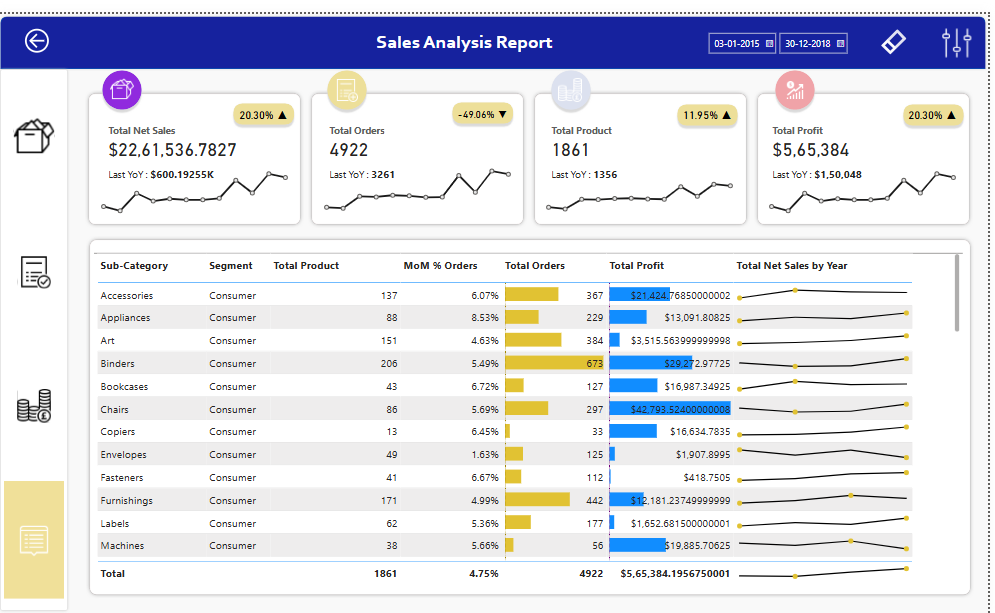

This screenshot's page, from the dashboard's own definition file:
{"tool":"powerbi","page":{"name":"Sales","canvas":[1650,1000],"ordinal":0},"visuals":[{"type":"shape","box":[0,0,1650,95.7],"z":0},{"type":"shape","box":[129.4,128.6,365,230],"z":1000},{"type":"shape","box":[872.3,128.6,365,230],"z":2000},{"type":"shape","box":[1243.7,128.6,365,230],"z":3000},{"type":"shape","box":[500.8,128.6,365,230],"z":4000},{"type":"shape","box":[151.4,88.6,80,80],"z":5000},{"type":"shape","box":[1272.8,88.6,80,80],"z":6000},{"type":"shape","box":[899,88.6,80,80],"z":7000},{"type":"shape","box":[525.2,88.6,80,80],"z":8000},{"type":"shape","box":[368.6,142.9,115.7,50],"z":9000},{"type":"shape","box":[734.3,141.4,115.7,50],"z":10000},{"type":"shape","box":[1108.6,144.3,115,50],"z":11000},{"type":"shape","box":[1485.7,144.3,115,50],"z":12000},{"type":"textbox","box":[595.7,21.4,364.3,50],"z":13000},{"type":"image","box":[165.7,102.9,50,50],"z":14000},{"type":"image","box":[539.5,102.9,50,50],"z":15000},{"type":"image","box":[913.3,102.9,50,50],"z":16000},{"type":"image","box":[1287.1,102.9,50,50],"z":17000},{"type":"lineChart","fields":{"Y":["All Measure.Total Product Sales"],"Category":["DimDate.Date.Variation.Date Hierarchy.Month"]},"box":[144.3,242.5,335,105],"z":18000},{"type":"lineChart","fields":{"Y":["All Measure.Total Orders"],"Category":["DimDate.Date.Variation.Date Hierarchy.Month"]},"box":[515.2,242.5,335,105],"z":19000},{"type":"lineChart","fields":{"Y":["All Measure.Total Product"],"Category":["DimDate.Date.Variation.Date Hierarchy.Month"]},"box":[886.2,242.5,335,105],"z":20000},{"type":"lineChart","fields":{"Category":["DimDate.Date.Variation.Date Hierarchy.Month"],"Y":["All Measure.Total Profit"]},"box":[1257.1,242.5,335,105],"z":21000},{"type":"card","fields":{"Values":["All Measure.Sales Growth"]},"box":[378.6,145.7,95.7,50],"z":22000},{"type":"cardVisual","fields":{"Data":["All Measure.Total Net Sales"]},"box":[151.4,167.1,250,120],"z":23000},{"type":"cardVisual","fields":{"Data":["All Measure.Total Product"]},"box":[888.6,167.1,250,120],"z":24000},{"type":"cardVisual","fields":{"Data":["All Measure.Total Profit"]},"box":[1257.1,167.1,250,120],"z":25000},{"type":"cardVisual","fields":{"Data":["All Measure.Total Orders"]},"box":[520,167.1,250,120],"z":26000},{"type":"card","fields":{"Values":["All Measure.YoY % Orders"]},"box":[744.3,145.7,95.7,50],"z":27000},{"type":"card","fields":{"Values":["All Measure.YoY % Products"]},"box":[1118.6,145.7,95.7,50],"z":28000},{"type":"card","fields":{"Values":["All Measure.YoY % Profit"]},"box":[1494.3,145.7,95.7,50],"z":29000},{"type":"shape","box":[126.7,358.6,998.6,640],"z":30000},{"type":"shape","box":[1125.2,358.6,480,640],"z":31000},{"type":"clusteredBarChart","fields":{"Category":["Sales_Data.Sub-Category"],"Y":["All Measure.Sales_CY","All Measure.Sales Ly"]},"box":[140.9,411.4,510,571.4],"z":32000},{"type":"slicer","fields":{"Values":["TopN_Sales.TopN_Sales"]},"box":[1422.4,362.9,167.1,64.3],"z":33000},{"type":"lineChart","fields":{"Category":["DimDate.Date.Variation.Date Hierarchy.Month"],"Y":["All Measure.Total Net Sales"]},"box":[659.5,411.4,445.7,571.4],"z":34000},{"type":"clusteredBarChart","fields":{"Category":["Sales_Data.Sub-Category"],"Y":["All Measure.Total Net Sales"]},"box":[1135.2,407.1,454.3,575.7],"z":35000},{"type":"textbox","box":[1133.8,371.4,287.1,40],"z":36000},{"type":"textbox","box":[132.4,371.4,350,40],"z":37000},{"type":"slicer","fields":{"Values":["DimDate.Date"]},"box":[1172,22,256,50],"z":38000},{"type":"actionButton","box":[1460,22,66,50],"z":39000},{"type":"shape","box":[0,88.6,120,910],"z":40000},{"type":"actionButton","title":"Filter Button","box":[1560,18,76,60],"z":42000},{"type":"actionButton","box":[10,108.4,100,196],"z":44504},{"type":"actionButton","box":[10,331.7,100,196],"z":45004},{"type":"actionButton","box":[10,555.1,100,196],"z":45504},{"type":"actionButton","box":[10,778.4,100,196],"z":46004}]}

Visuals, with their boxes on the page's 1650x1000 design canvas (x1, y1, x2, y2). These are canvas units, not pixel positions in the 995x613 screenshot, which may show the page scaled, cropped or inside an application window:
shape: 0,0,1650,96
shape: 129,129,494,359
shape: 872,129,1237,359
shape: 1244,129,1609,359
shape: 501,129,866,359
shape: 151,89,231,169
shape: 1273,89,1353,169
shape: 899,89,979,169
shape: 525,89,605,169
shape: 369,143,484,193
shape: 734,141,850,191
shape: 1109,144,1224,194
shape: 1486,144,1601,194
textbox: 596,21,960,71
image: 166,103,216,153
image: 540,103,590,153
image: 913,103,963,153
image: 1287,103,1337,153
lineChart - All Measure.Total Product Sales x DimDate.Date.Variation.Date Hierarchy.Month: 144,242,479,348
lineChart - All Measure.Total Orders x DimDate.Date.Variation.Date Hierarchy.Month: 515,242,850,348
lineChart - All Measure.Total Product x DimDate.Date.Variation.Date Hierarchy.Month: 886,242,1221,348
lineChart - DimDate.Date.Variation.Date Hierarchy.Month x All Measure.Total Profit: 1257,242,1592,348
card - All Measure.Sales Growth: 379,146,474,196
cardVisual - All Measure.Total Net Sales: 151,167,401,287
cardVisual - All Measure.Total Product: 889,167,1139,287
cardVisual - All Measure.Total Profit: 1257,167,1507,287
cardVisual - All Measure.Total Orders: 520,167,770,287
card - All Measure.YoY % Orders: 744,146,840,196
card - All Measure.YoY % Products: 1119,146,1214,196
card - All Measure.YoY % Profit: 1494,146,1590,196
shape: 127,359,1125,999
shape: 1125,359,1605,999
clusteredBarChart - Sales_Data.Sub-Category x All Measure.Sales_CY: 141,411,651,983
slicer - TopN_Sales.TopN_Sales: 1422,363,1590,427
lineChart - DimDate.Date.Variation.Date Hierarchy.Month x All Measure.Total Net Sales: 660,411,1105,983
clusteredBarChart - Sales_Data.Sub-Category x All Measure.Total Net Sales: 1135,407,1590,983
textbox: 1134,371,1421,411
textbox: 132,371,482,411
slicer - DimDate.Date: 1172,22,1428,72
actionButton: 1460,22,1526,72
shape: 0,89,120,999
"Filter Button" actionButton: 1560,18,1636,78
actionButton: 10,108,110,304
actionButton: 10,332,110,528
actionButton: 10,555,110,751
actionButton: 10,778,110,974
